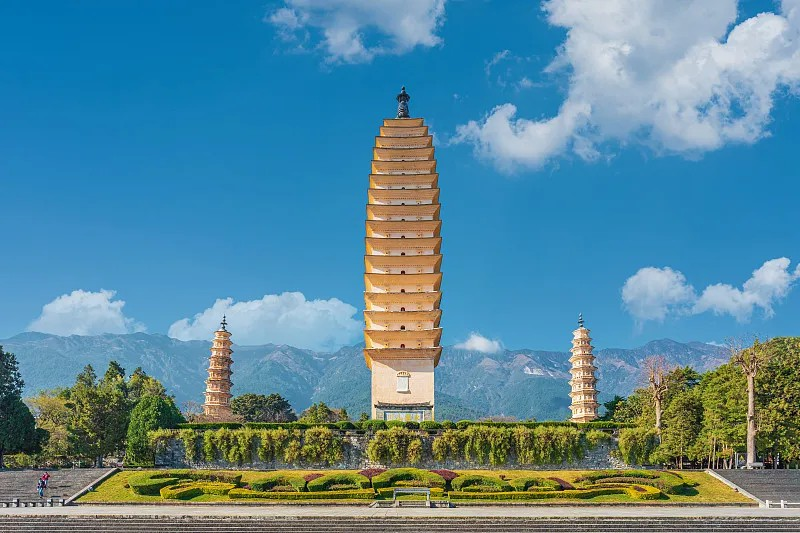ThreePagoda: (362, 88, 443, 419)
